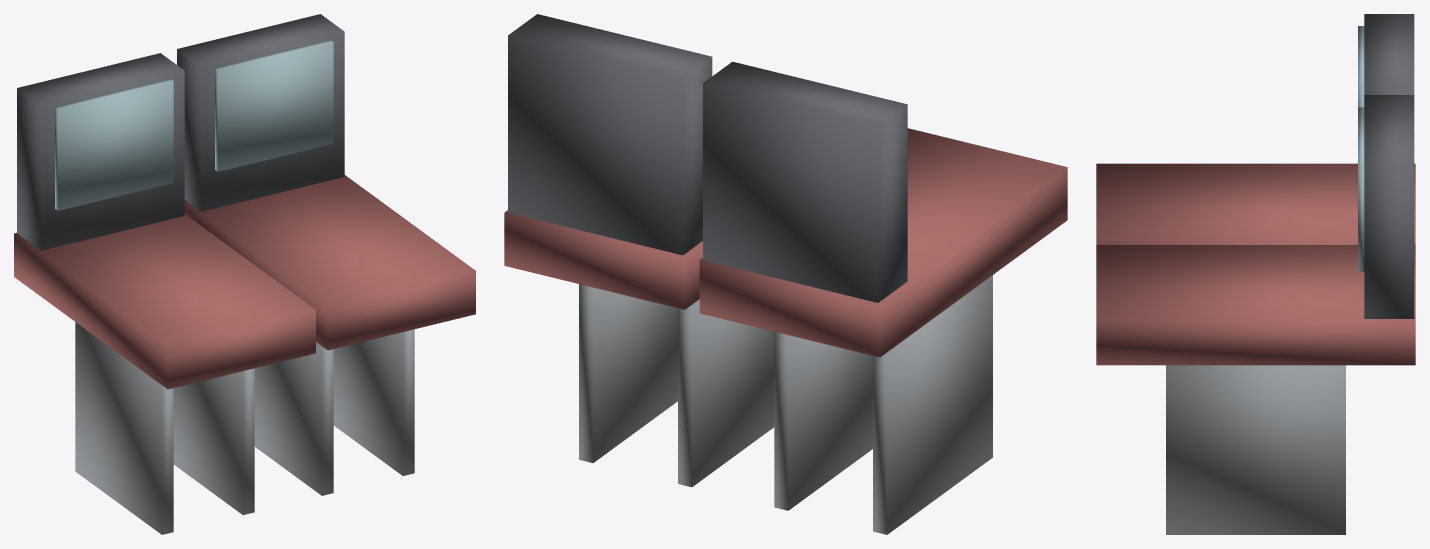
Rendered from pinball_machine__cluster.glb.
The picture shows the model from 3 angles, left to right: view 1: azimuth 30°, elevation 25°; view 2: azimuth 150°, elevation 25°; view 3: azimuth 270°, elevation 25°; orthographic projection. The views are drawn at different scales.
Visible parts, largest first — view 1: world; view 2: world; view 3: world.
Boxes of the visible parts, left/top/right/bottom form: world: left=14, top=14, right=475, bottom=534; world: left=504, top=14, right=1067, bottom=534; world: left=1096, top=14, right=1415, bottom=534.
Size of the model in its own units: 1.33 by 1.51 by 1.15.
